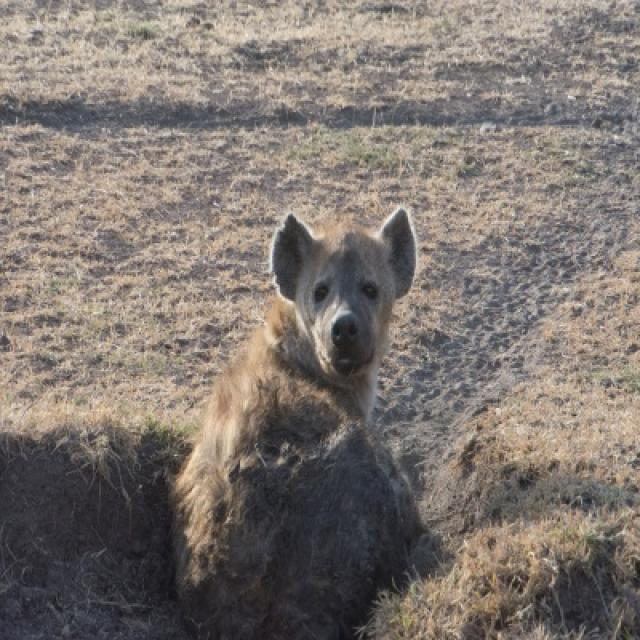hyena: (176, 208, 421, 638)
